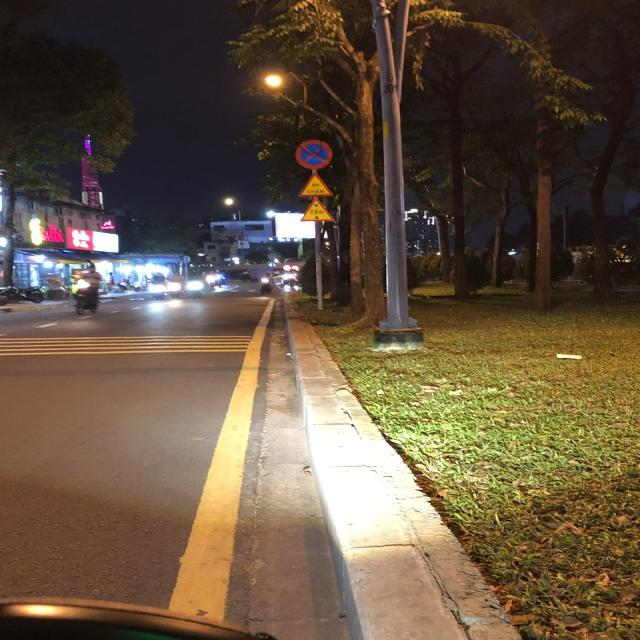Bien bao cam dung xe va do xe: (290, 137, 337, 169)
Bien bao chieu cao tinh khong thuc te: (297, 198, 338, 224)
Bien bao di cham: (294, 170, 336, 198)
